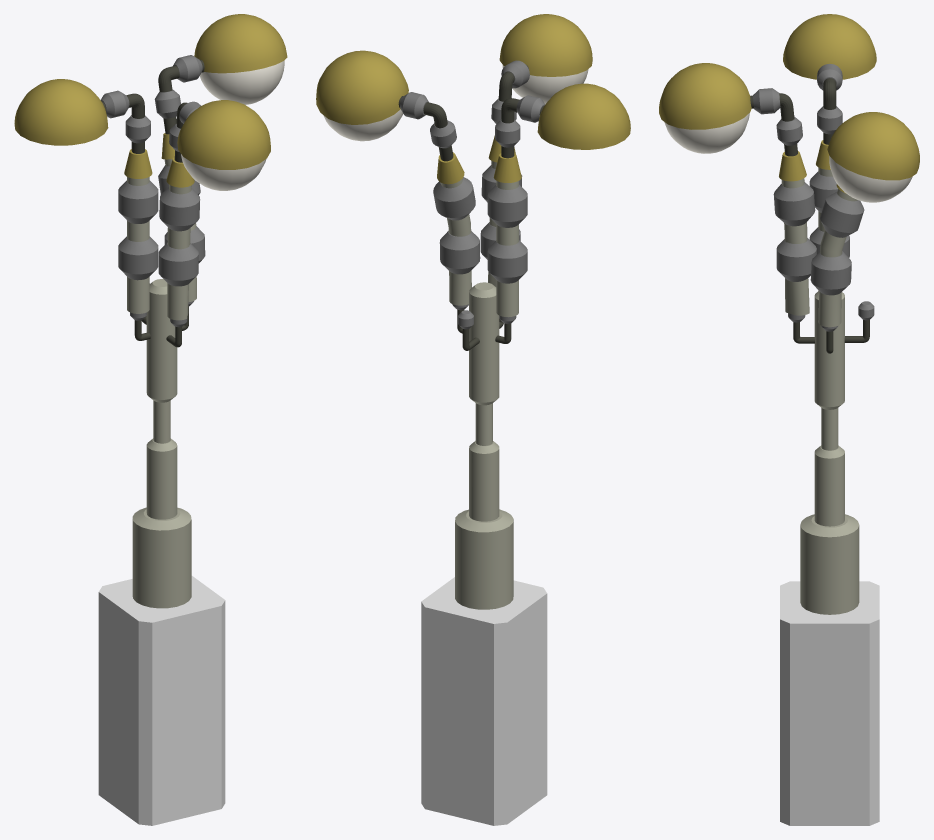
File: wwr lampost 2.fbx
3 views of the same model, side by side, from view 1: azimuth 30°, elevation 25°; view 2: azimuth 150°, elevation 25°; view 3: azimuth 270°, elevation 25° (orthographic).
Visible parts, largest first — view 1: lamp1_pCube19; view 2: lamp1_pCube19; view 3: lamp1_pCube19.
Part boxes in pixels (left/top/right/bottom): lamp1_pCube19: left=14, top=14, right=287, bottom=825; lamp1_pCube19: left=316, top=14, right=630, bottom=825; lamp1_pCube19: left=659, top=14, right=919, bottom=825.
Size of the model in its own units: 7.4 by 18.5 by 5.93.
